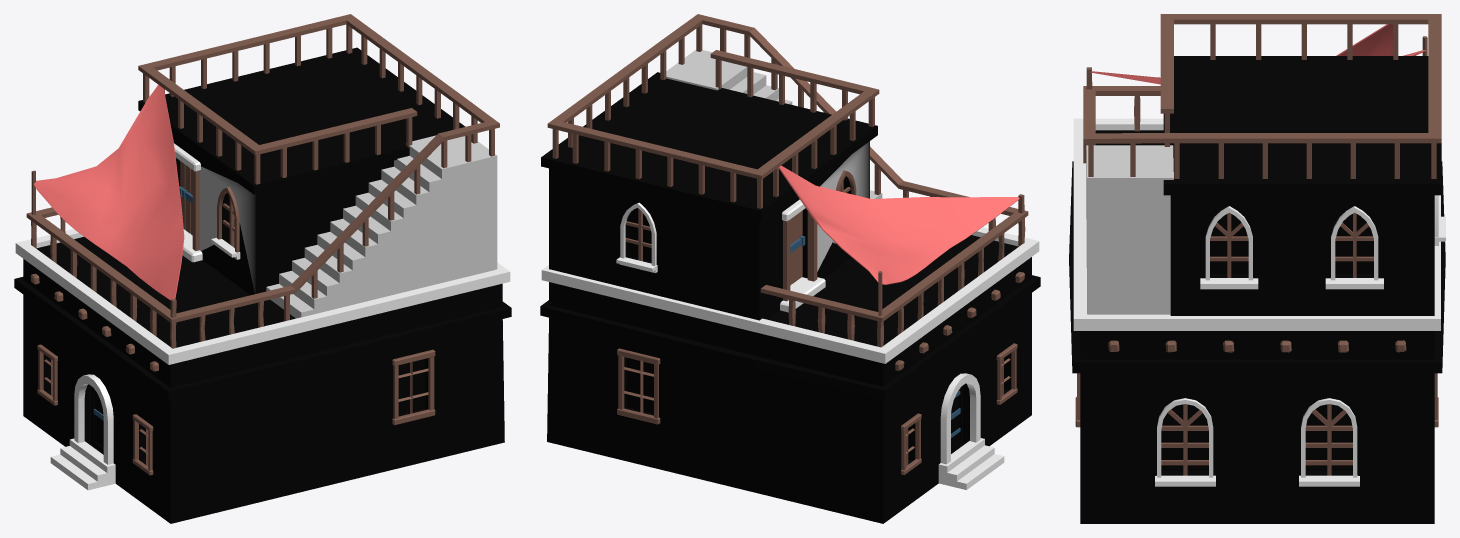
The model's file is civilian_house_32_d.FBX.
3 views of the same model, side by side, from view 1: azimuth 30°, elevation 25°; view 2: azimuth 150°, elevation 25°; view 3: azimuth 270°, elevation 25° (orthographic). The views are drawn at different scales.
Visible parts, largest first — view 1: civilian_house_32_d_LOD0; view 2: civilian_house_32_d_LOD0; view 3: civilian_house_32_d_LOD0.
Boxes of the visible parts, x1,y1,x2,y2 form: civilian_house_32_d_LOD0: (14, 14, 511, 523); civilian_house_32_d_LOD0: (540, 14, 1040, 523); civilian_house_32_d_LOD0: (1069, 14, 1445, 523).
Size of what is drawn, in the model's own units: 1157 by 955 by 851.
